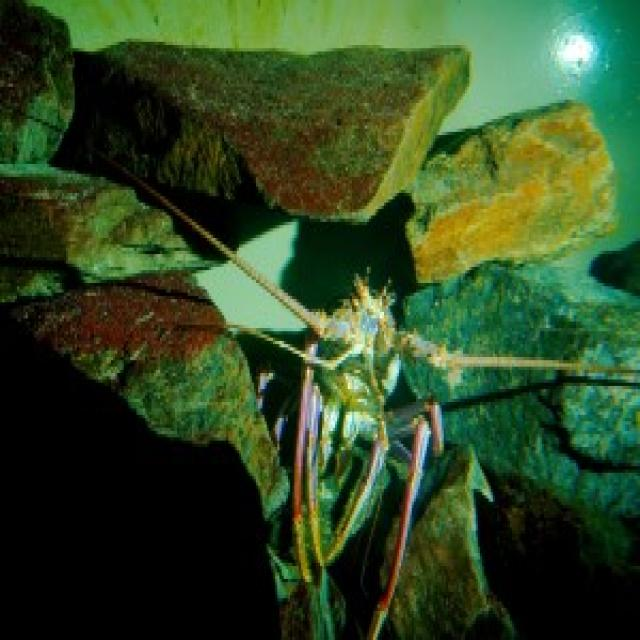lobsters: (86, 146, 634, 631)
